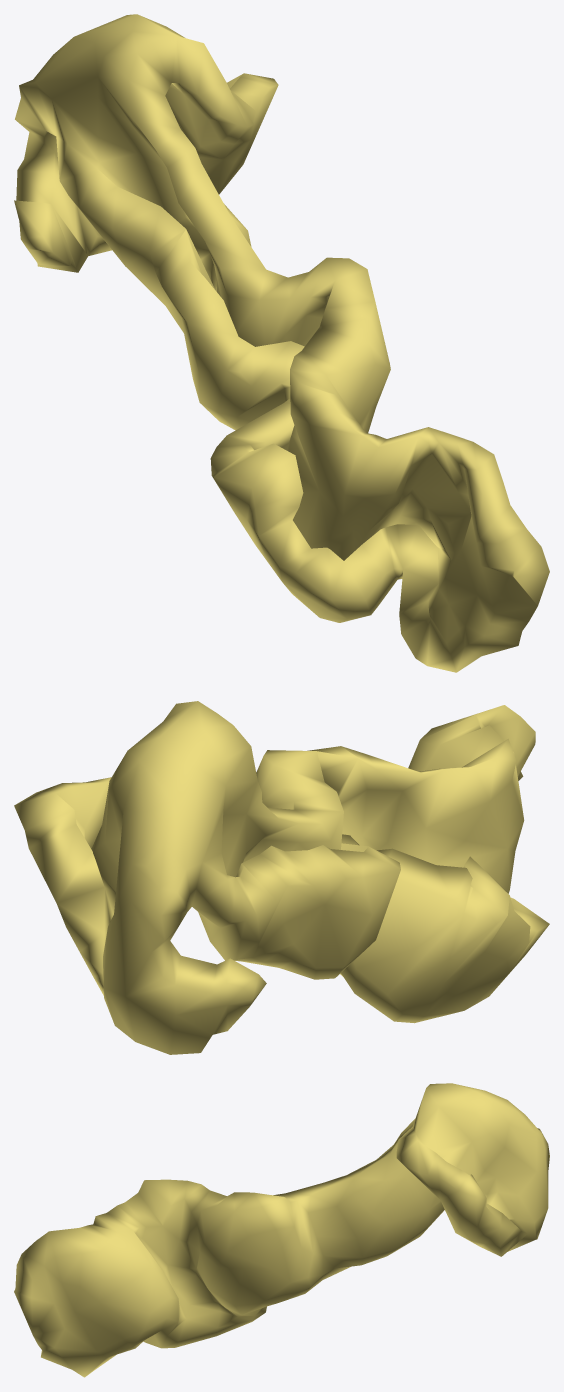
File: superior-frontal-sulcus-r.glb
3 renders of one model, top to bottom at view 1: azimuth 30°, elevation 25°; view 2: azimuth 150°, elevation 25°; view 3: azimuth 270°, elevation 25°, orthographic. The views are drawn at different scales.
Visible parts, largest first — view 1: Superior frontal sulcus.r; view 2: Superior frontal sulcus.r; view 3: Superior frontal sulcus.r.
Part boxes in pixels (x1=…): Superior frontal sulcus.r: x1=14, y1=14, x2=549, y2=672; Superior frontal sulcus.r: x1=14, y1=701, x2=549, y2=1054; Superior frontal sulcus.r: x1=14, y1=1083, x2=549, y2=1377.
Size of the model in its own units: 0.0244 by 0.0396 by 0.0674.
